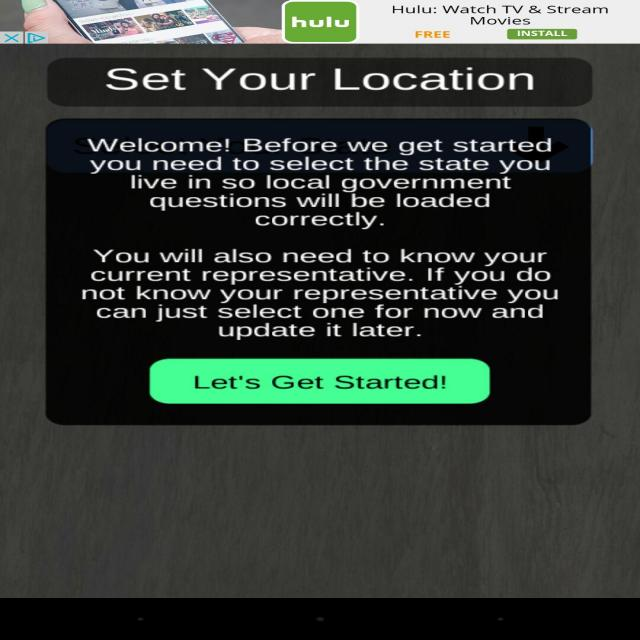button: (129, 353, 504, 411)
text: (77, 125, 588, 237), (73, 245, 569, 348), (69, 57, 606, 104)
